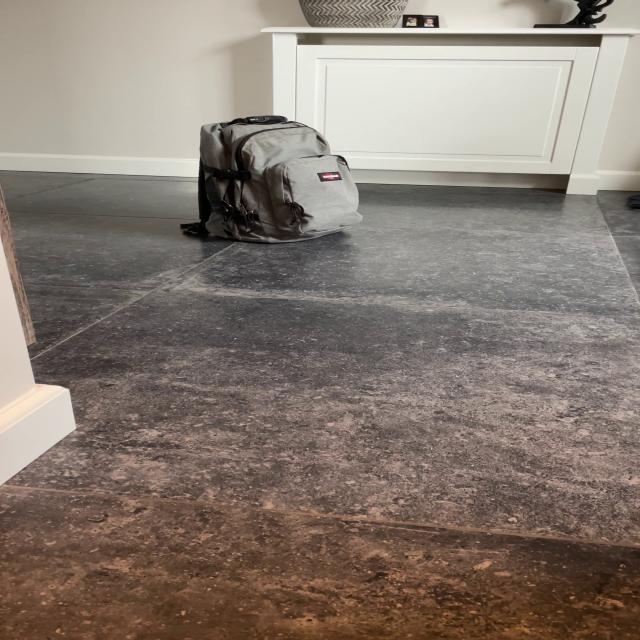backpack: (181, 110, 370, 248)
